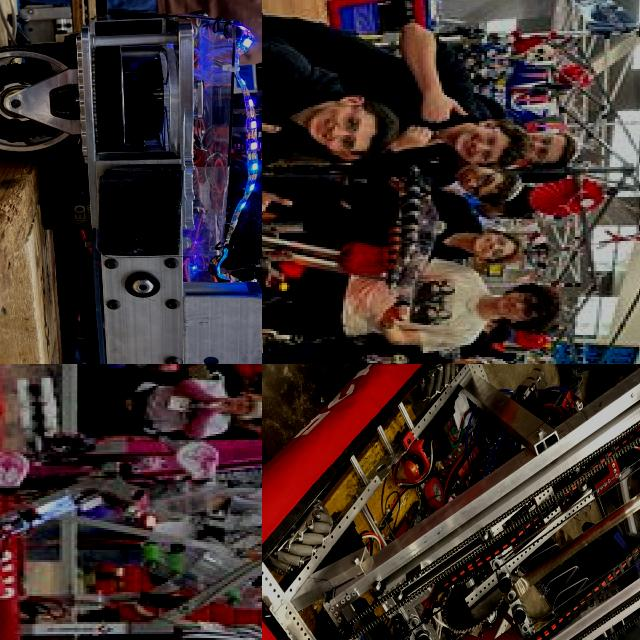FRC-Robots: (262, 364, 640, 640), (0, 364, 262, 601), (262, 126, 451, 348), (0, 481, 262, 640)
